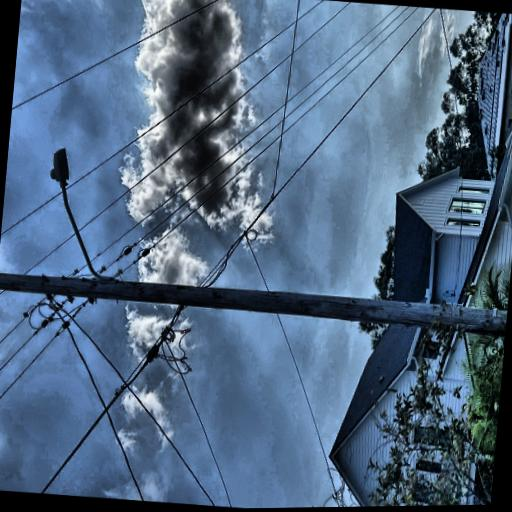insulator: (36, 14, 48, 28), (82, 0, 94, 2)
pole: (51, 0, 135, 497)
street light: (103, 148, 231, 248)
